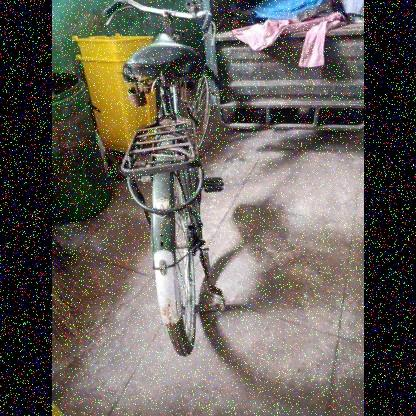Bicycle: (91, 0, 259, 369)
